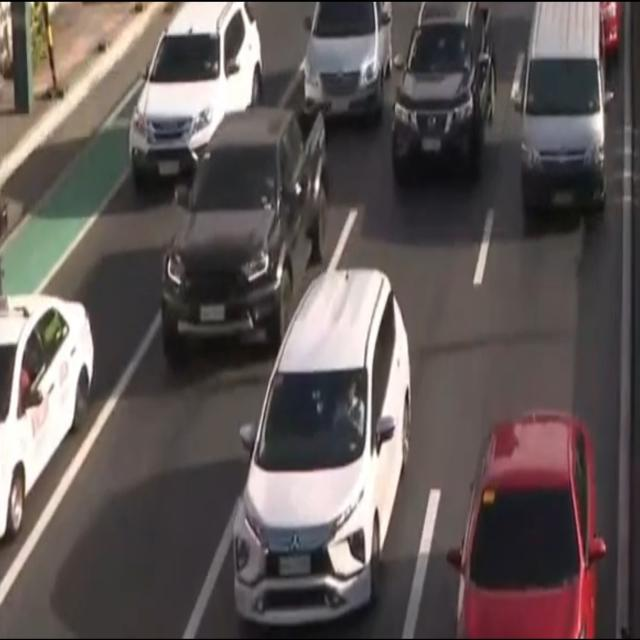SUV: (244, 267, 406, 616), (158, 99, 330, 360), (129, 9, 259, 187), (396, 0, 496, 188)
Sedan: (452, 412, 600, 640), (0, 289, 96, 533), (300, 0, 387, 127)
Van: (514, 0, 610, 215)
